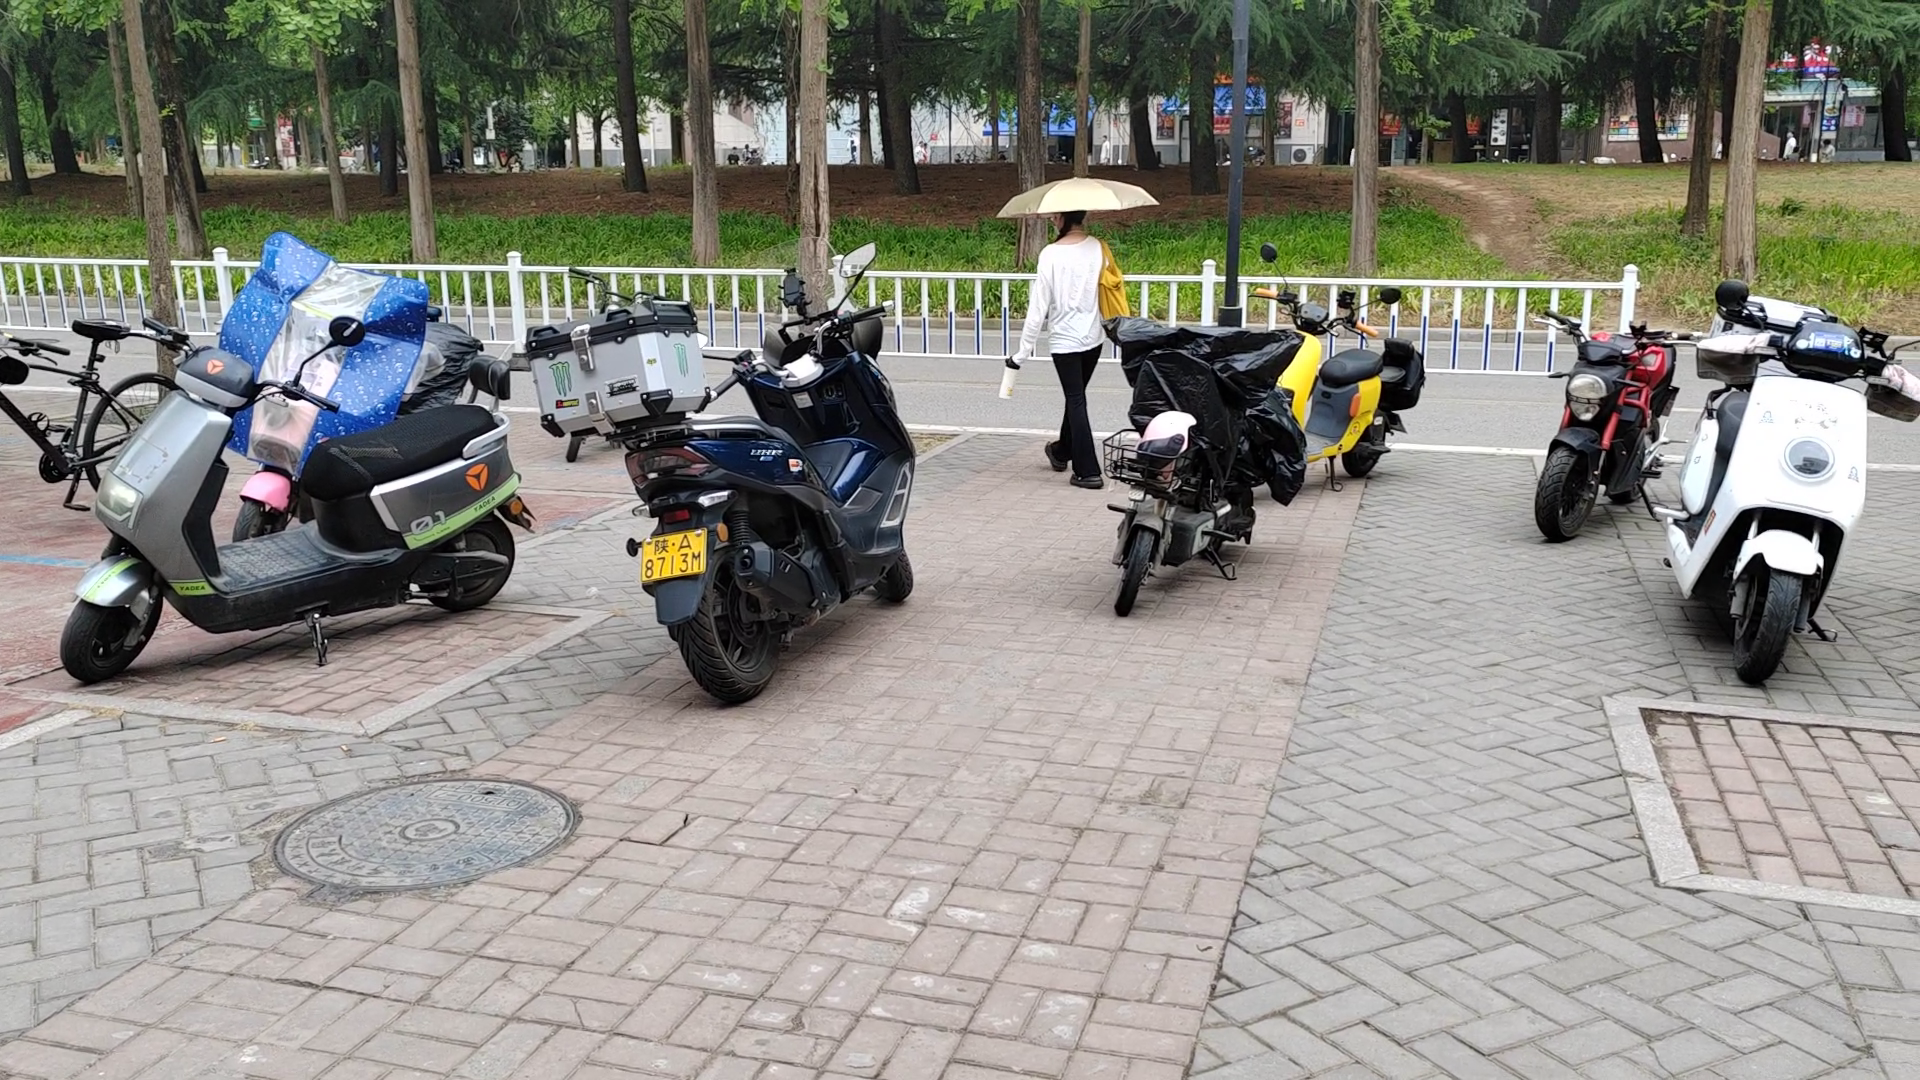others: (539, 268, 916, 680), (76, 299, 513, 644), (1654, 274, 1884, 665), (1098, 305, 1299, 615), (1249, 253, 1429, 502), (11, 299, 174, 512), (1535, 295, 1671, 545)
